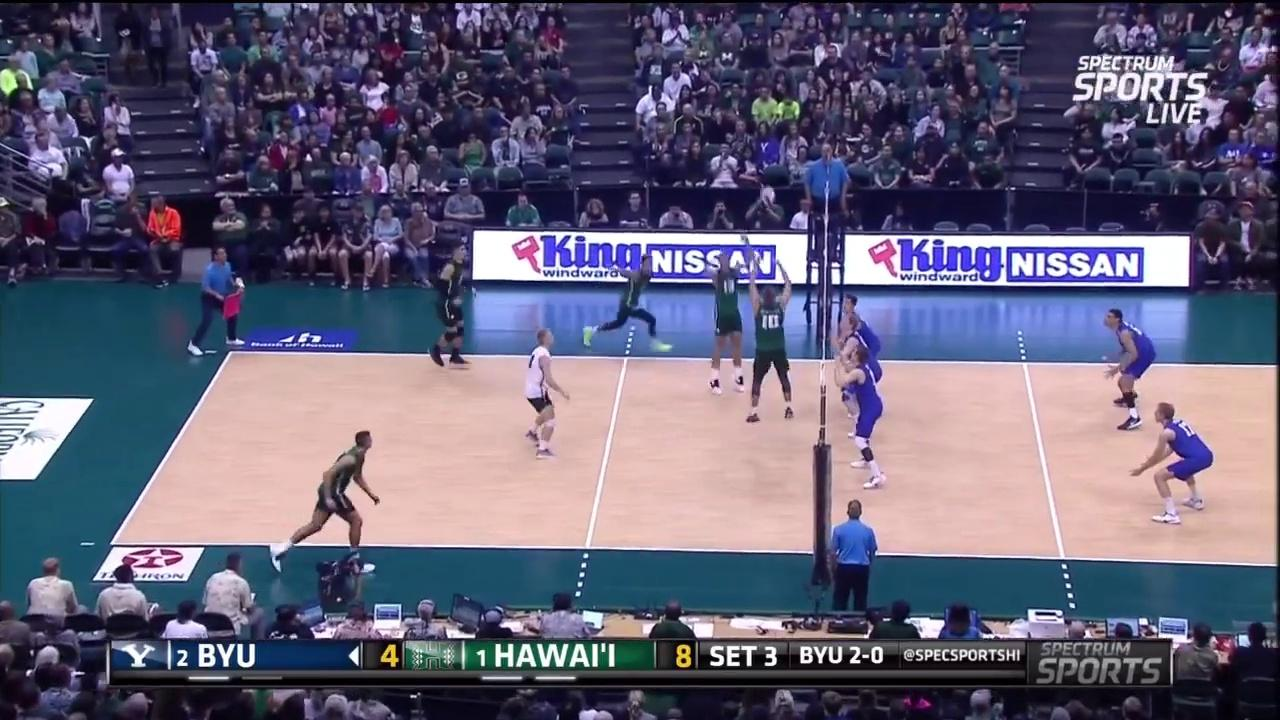player: (266, 432, 379, 574), (1128, 403, 1212, 522), (695, 242, 750, 404), (586, 250, 664, 354), (744, 266, 792, 432), (834, 344, 885, 486), (1103, 310, 1156, 429), (832, 316, 882, 440), (430, 239, 474, 371), (525, 332, 570, 458), (842, 292, 881, 402)
refree: (188, 246, 241, 358), (828, 498, 880, 604), (806, 140, 851, 257)
